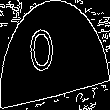O_S: (41, 26, 69, 84)
